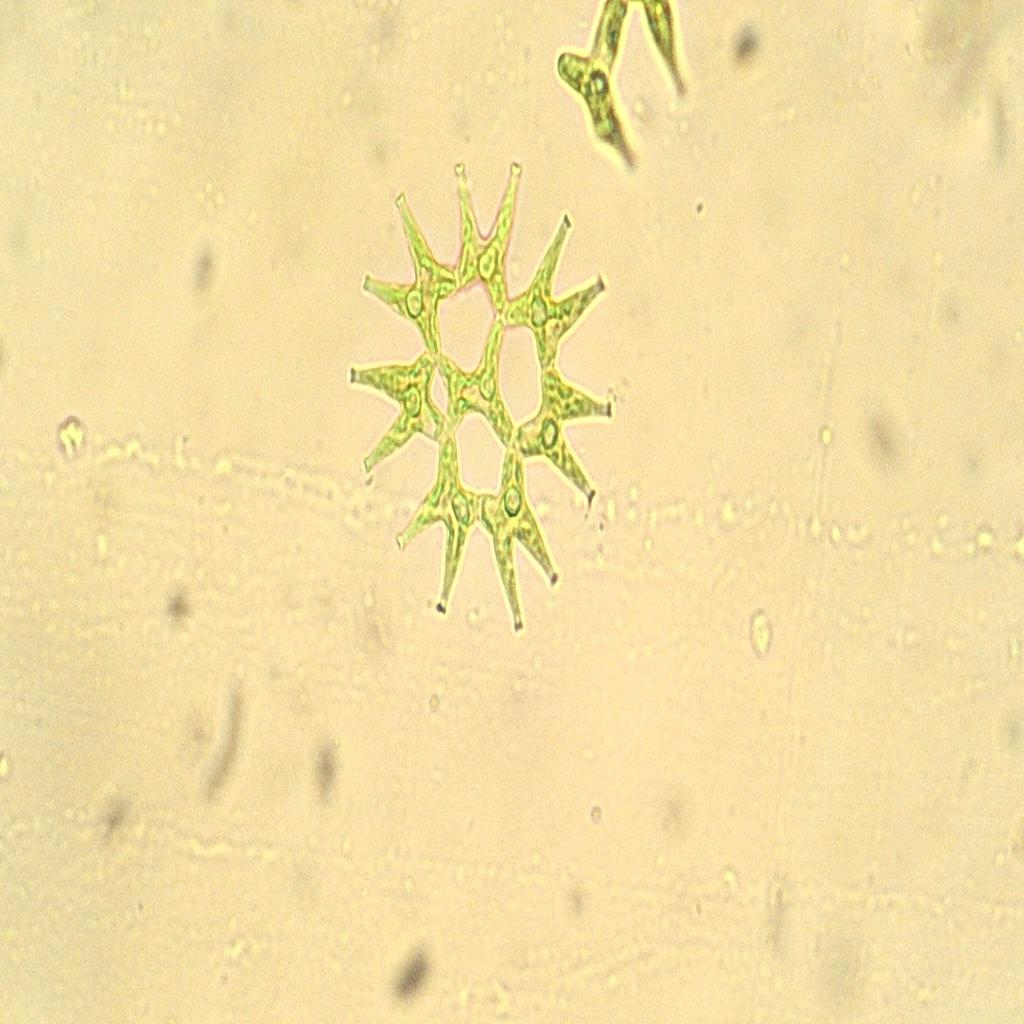Pediastrum_CTH: (344, 134, 628, 655)
